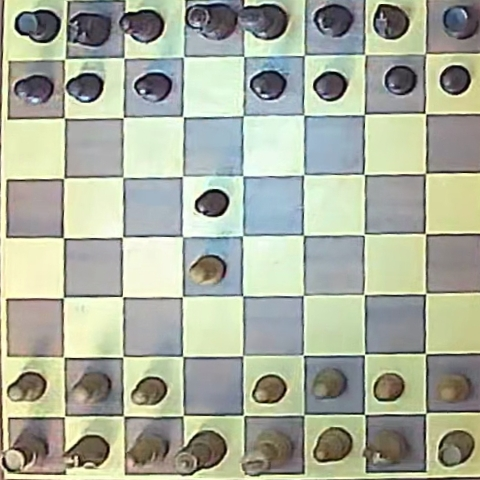black-bishop: (120, 9, 164, 43), (312, 4, 352, 38)
black-king: (236, 3, 286, 40)
black-knight: (68, 12, 112, 47), (373, 4, 409, 40)
black-pawn: (133, 72, 172, 103), (14, 74, 54, 104), (66, 72, 104, 102), (249, 70, 286, 100), (384, 65, 417, 95), (314, 71, 347, 101), (439, 65, 471, 95), (195, 189, 228, 217)
black-queen: (185, 3, 238, 40)
black-rook: (15, 9, 60, 44), (442, 5, 479, 39)
white-bishop: (126, 432, 169, 467), (313, 427, 352, 463)
white-king: (241, 429, 293, 475)
white-knight: (362, 429, 408, 466), (64, 434, 110, 469)
white-pawn: (70, 372, 111, 404), (6, 372, 47, 402), (189, 255, 225, 286), (131, 376, 167, 406), (311, 368, 345, 399), (252, 375, 287, 404), (436, 374, 469, 403), (373, 373, 405, 401)
white-queen: (172, 430, 226, 474)
white-rook: (3, 432, 47, 472), (437, 431, 474, 467)
